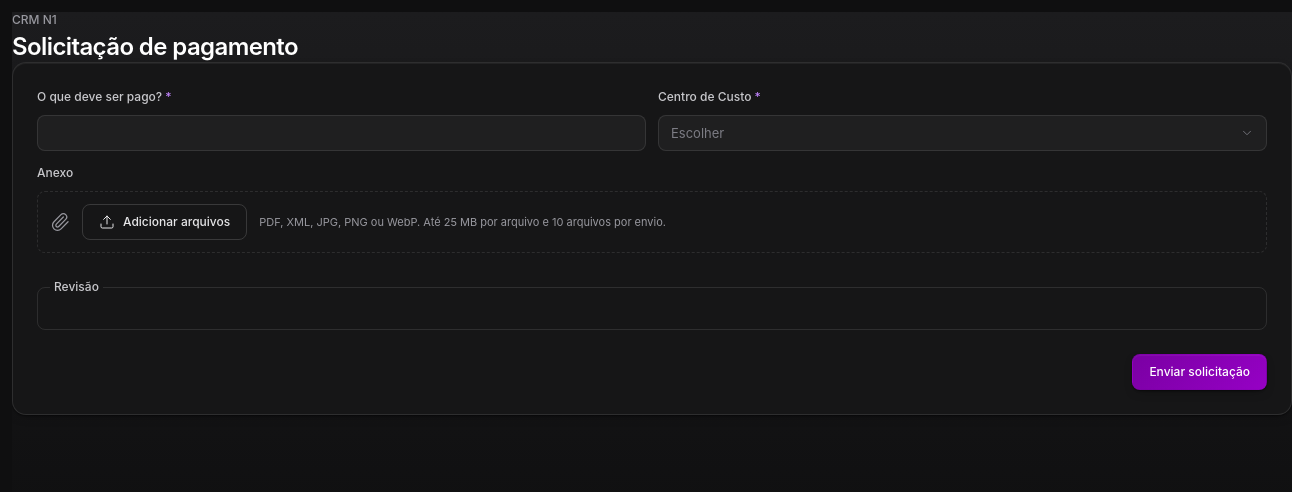
Confirmacao — recibo público › (h) a ordem do UI-SPEC: o identificador fica dentro de role=status; o rótulo e os botões, fora
Type "Pagamento de teste" into the field labelled "O que deve ser pago?" at coordinates (342, 133), box [37,115,646,151]
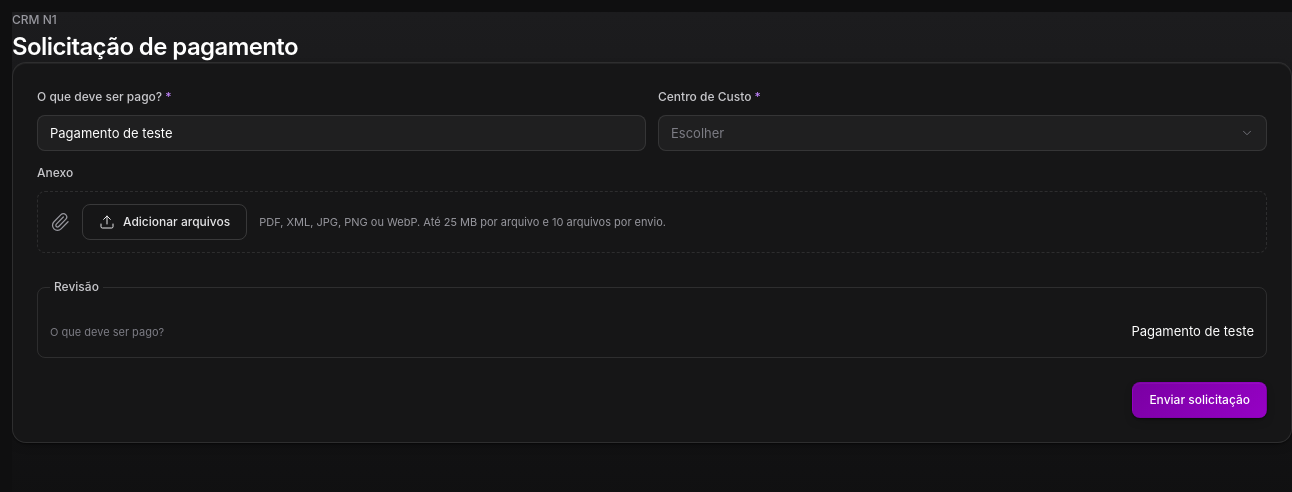
Click the dropdown named "Centro de Custo" at coordinates (698, 133), box [658,115,1267,151]
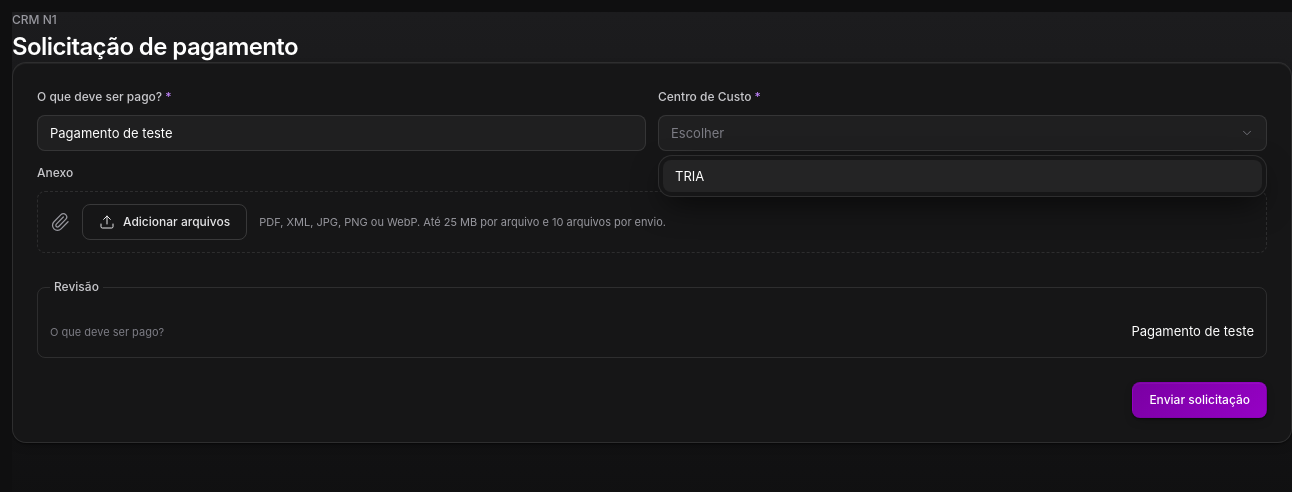
Click the option "TRIA" at coordinates (690, 176), box [663,160,1262,192]
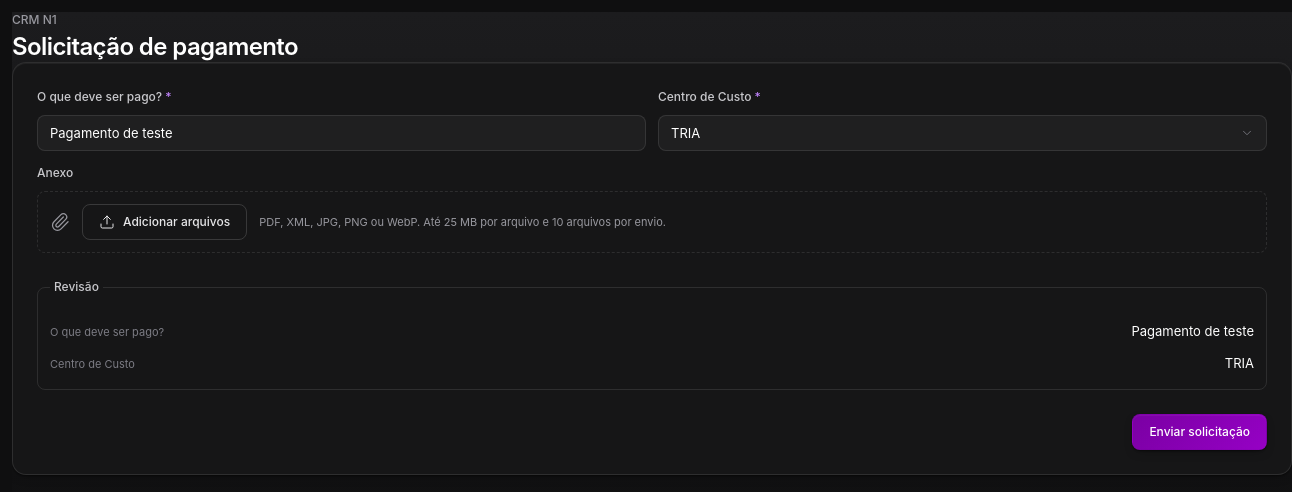
Click the button "Enviar solicitação" at coordinates (1200, 432), box [1132,414,1267,450]
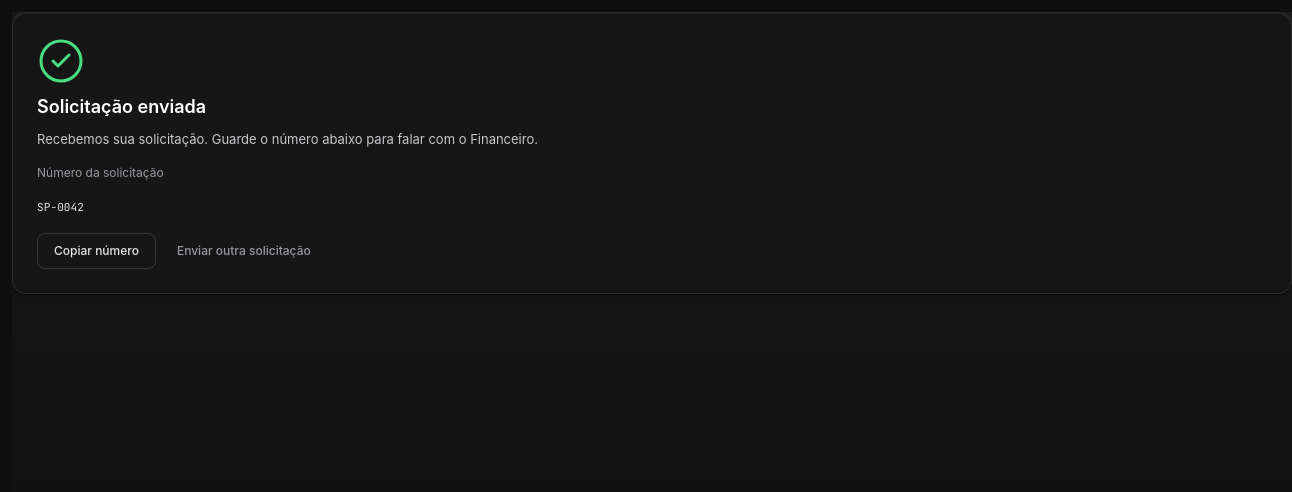
Expected: the heading "Solicitação enviada" is shown, [37,96,206,117]
